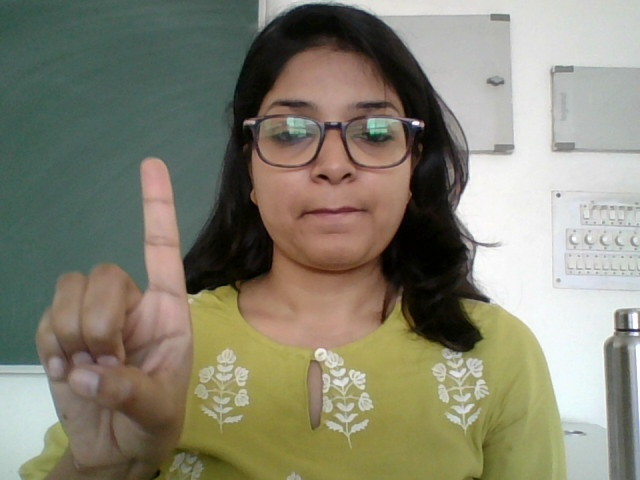D: (30, 155, 199, 480)
